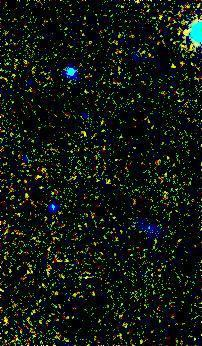star: (172, 15, 202, 45)
